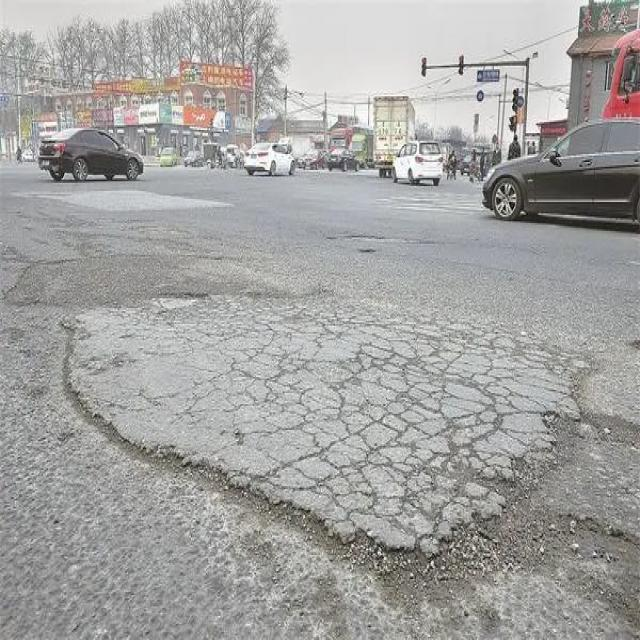Pothole: (163, 444, 594, 618), (326, 226, 438, 258), (140, 279, 221, 319)
